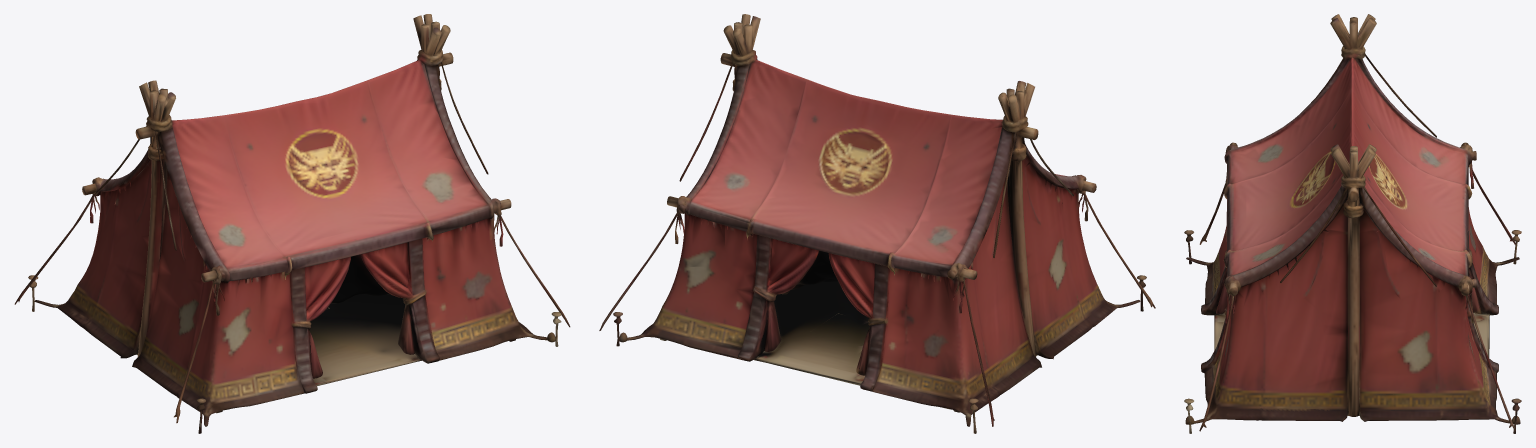
Rendered from tent-red-hy3-v1.glb.
3 renders of one model, left to right at view 1: azimuth 30°, elevation 25°; view 2: azimuth 150°, elevation 25°; view 3: azimuth 270°, elevation 25°, orthographic. The views are drawn at different scales.
Visible parts, largest first — view 1: node_0; view 2: node_0; view 3: node_0.
Boxes of the visible parts, left/top/right/bottom form: node_0: left=14, top=14, right=570, bottom=433; node_0: left=599, top=14, right=1155, bottom=433; node_0: left=1184, top=14, right=1521, bottom=433.
Size of the model in its own units: 4.2 by 2.8 by 3.2.
1 material, 1 textured.
